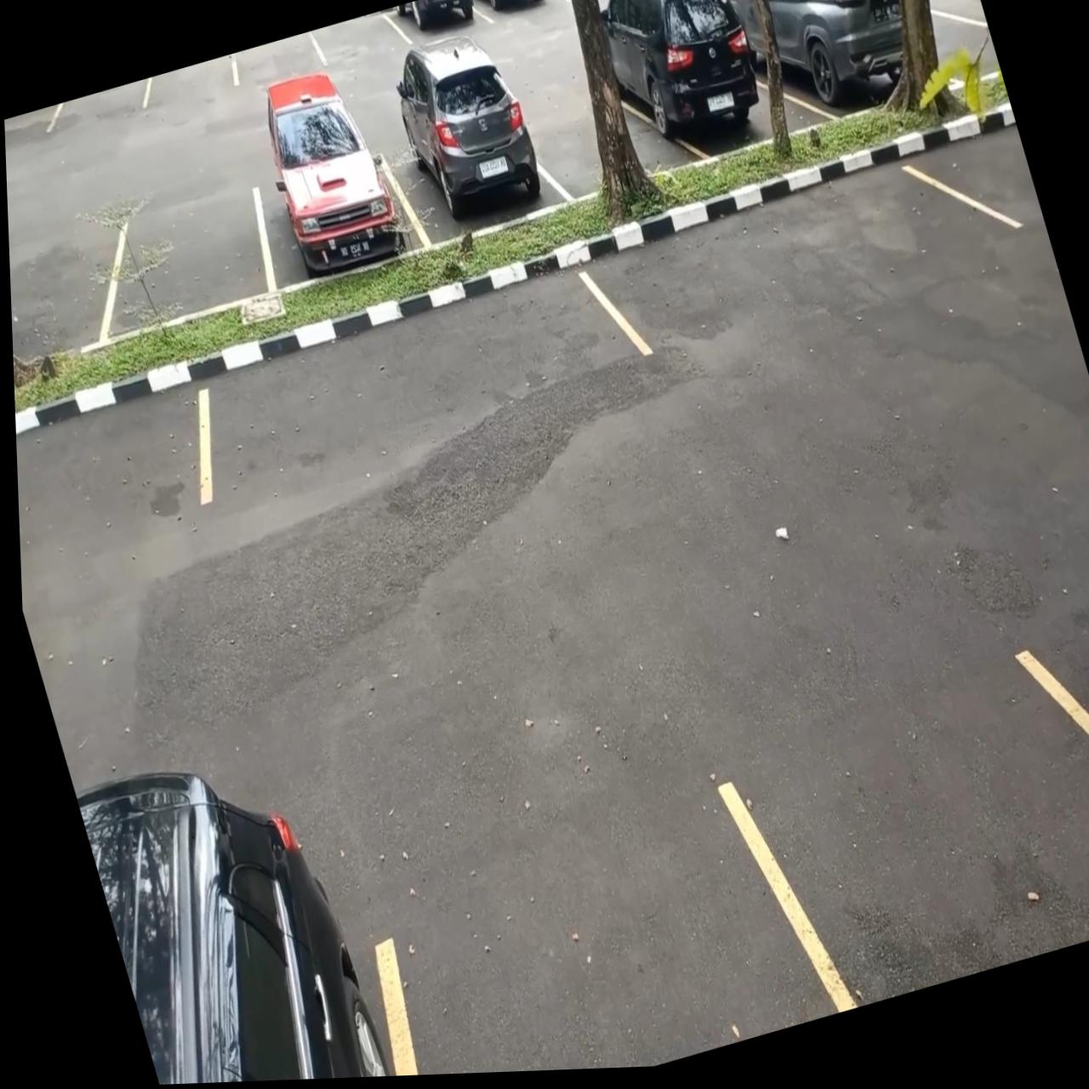cars: (599, 53, 836, 161), (379, 116, 572, 245), (255, 156, 429, 292), (384, 0, 489, 42), (462, 0, 558, 21)
empty: (382, 795, 846, 1076), (727, 657, 1089, 1001), (202, 277, 646, 496), (586, 167, 1013, 350), (102, 191, 272, 344), (498, 88, 711, 202), (9, 224, 122, 342), (310, 13, 410, 63)
